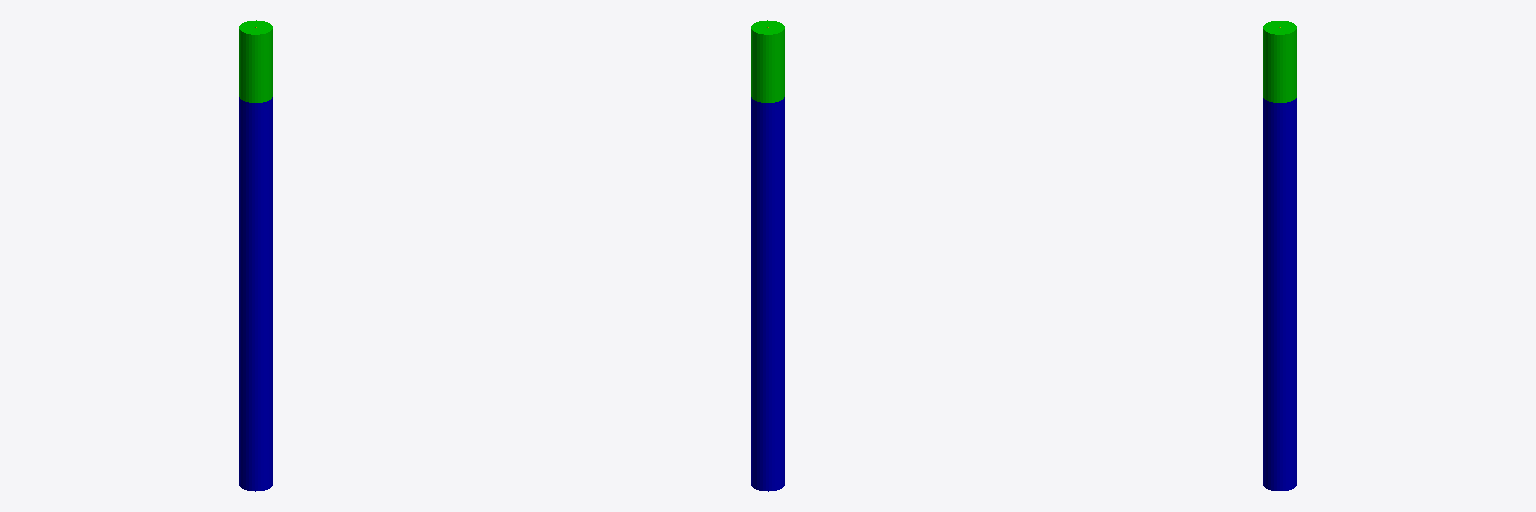
robot.urdf — simple_arm_3link:
<?xml version="1.0" ?>
<!-- =================================================================================== -->
<!-- |    This document was autogenerated by xacro from [local-path]/w_work/catkin_ws/src/RC2026/arm_model/urdf/arm_simple.xacro | -->
<!-- |    EDITING THIS FILE BY HAND IS NOT RECOMMENDED                                 | -->
<!-- =================================================================================== -->
<robot name="simple_arm_3link">
    <link name="world" />
    <material name="blue">
        <color rgba="0 0 0.8 1" />
    </material>
    <material name="gray">
        <color rgba="0.7 0.7 0.7 1" />
    </material>
    <material name="red">
        <color rgba="0.8 0 0 1" />
    </material>
    <!-- 添加绿色材料用于第三连杆 -->
    <material name="green">
        <color rgba="0 0.8 0 1" />
    </material>
    <!-- 添加黄色材料用于末端小球 -->
    <material name="yellow">
        <color rgba="0.8 0.8 0 1" />
    </material>
    <link name="base_link">
        <inertial>
            <mass value="1.0" />
            <origin xyz="0 0 0" rpy="0 0 0" />
            <inertia ixx="0.0" ixy="0" ixz="0" iyy="0.0" iyz="0" izz="0.0" />
        </inertial>
        <visual>
            <geometry>
                <cylinder length="0.0" radius="0.0" />
            </geometry>
            <material name="gray" />
        </visual>
        <collision>
            <geometry>
                <cylinder length="0.0" radius="0.0" />
            </geometry>
        </collision>
    </link>
    <joint name="world_to_base_fixed" type="fixed">
        <parent link="world" />
        <child link="base_link" />
        <origin rpy="0 0 0" xyz="0 0 0.0" />
    </joint>
    <link name="turret_link">
        <inertial>
            <mass value="0.5" />
            <origin xyz="0 0 0" rpy="0 0 0" />
            <inertia ixx="0.0" ixy="0" ixz="0" iyy="0.0" iyz="0" izz="0.0" />
        </inertial>
        <visual name="turret_blue_part">
            <origin xyz="0 0 -0.0" />
            <geometry>
                <cylinder length="0.0" radius="0.0" />
            </geometry>
            <material name="blue" />
        </visual>
        <visual name="turret_red_part">
            <origin xyz="0 0 0.0" />
            <geometry>
                <cylinder length="0.0" radius="0.0" />
            </geometry>
            <material name="red" />
        </visual>
        <collision>
            <geometry>
                <cylinder length="0.0" radius="0.0" />
            </geometry>
        </collision>
    </link>
    <joint name="base_to_turret" type="revolute">
        <parent link="base_link" />
        <child link="turret_link" />
        <origin rpy="0 0 0" xyz="0 0 0.0" />
        <axis xyz="0 0 1" />
        <limit effort="20" lower="-3.14" upper="3.14" velocity="1.0" />
        <dynamics damping="1.0" friction="0.1" />
    </joint>
    <gazebo joint="base_to_turret">
        <hardwareInterface>hardware_interface/PositionJointInterface</hardwareInterface>
        <plugin name="gazebo_ros_control" filename="libgazebo_ros_control.so">
            <robotNamespace>/</robotNamespace>
        </plugin>
    </gazebo>
    <transmission name="base_to_turret_trans">
        <type>transmission_interface/SimpleTransmission</type>
        <joint name="base_to_turret">
            <hardwareInterface>hardware_interface/PositionJointInterface</hardwareInterface>
        </joint>
        <actuator name="base_to_turret_motor">
            <hardwareInterface>hardware_interface/PositionJointInterface</hardwareInterface>
            <mechanicalReduction>1</mechanicalReduction>
        </actuator>
    </transmission>
    <!-- 第一连杆 -->
    <link name="first_arm_link">
        <inertial>
            <mass value="0.5" />
            <origin xyz="0 0 0.1721" rpy="0 0 0" />
            <!-- 重心在连杆中心 -->
            <inertia ixx="0.005048901666666666" ixy="0" ixz="0" iyy="0.005048901666666666" iyz="0" izz="0.000225" />
        </inertial>
        <visual>
            <origin xyz="0 0 0.1721" />
            <!-- 圆柱体中心在连杆中心 -->
            <geometry>
                <cylinder length="0.3442" radius="0.03" />
            </geometry>
            <material name="blue" />
        </visual>
        <collision>
            <origin xyz="0 0 0.1721" />
            <!-- 碰撞体中心也在连杆中心 -->
            <geometry>
                <cylinder length="0.3442" radius="0.03" />
            </geometry>
        </collision>
    </link>
    <!-- 第一连杆关节：位于云台上表面，第一连杆下表面与云台上表面连接 -->
    <joint name="turret_to_first_arm" type="revolute">
        <parent link="turret_link" />
        <child link="first_arm_link" />
        <!-- 关节位于云台上表面，第一连杆下表面与云台上表面连接 -->
        <origin rpy="0 0 0" xyz="0 0 0.0" />
        <axis xyz="0 1 0" />
        <limit effort="20" lower="-1.57" upper="1.57" velocity="1.0" />
        <dynamics damping="1.0" friction="0.1" />
    </joint>
    <gazebo joint="turret_to_first_arm">
        <hardwareInterface>hardware_interface/PositionJointInterface</hardwareInterface>
    </gazebo>
    <transmission name="turret_to_first_arm_trans">
        <type>transmission_interface/SimpleTransmission</type>
        <joint name="turret_to_first_arm">
            <hardwareInterface>hardware_interface/PositionJointInterface</hardwareInterface>
        </joint>
        <actuator name="turret_to_first_arm_motor">
            <hardwareInterface>hardware_interface/PositionJointInterface</hardwareInterface>
            <mechanicalReduction>1</mechanicalReduction>
        </actuator>
    </transmission>
    <!-- 第二连杆 -->
    <link name="second_arm_link">
        <inertial>
            <mass value="0.5" />
            <origin xyz="0 0 0.20738" rpy="0 0 0" />
            <!-- 重心在连杆中心 -->
            <inertia ixx="0.007280244066666668" ixy="0" ixz="0" iyy="0.007280244066666668" iyz="0" izz="0.000225" />
        </inertial>
        <visual>
            <origin xyz="0 0 0.20738" />
            <!-- 圆柱体中心在连杆中心 -->
            <geometry>
                <cylinder length="0.41476" radius="0.03" />
            </geometry>
            <material name="blue" />
        </visual>
        <collision>
            <origin xyz="0 0 0.20738" />
            <!-- 碰撞体中心也在连杆中心 -->
            <geometry>
                <cylinder length="0.41476" radius="0.03" />
            </geometry>
        </collision>
    </link>
    <!-- 第二连杆关节：位于第一连杆上表面，第二连杆下表面与第一连杆上表面连接 -->
    <joint name="first_to_second_arm" type="revolute">
        <parent link="first_arm_link" />
        <child link="second_arm_link" />
        <!-- 关节位于第一连杆上表面 -->
        <origin rpy="0 0 0" xyz="0 0 0.3442" />
        <axis xyz="0 1 0" />
        <limit effort="20" lower="-3.14" upper="3.14" velocity="1.0" />
        <dynamics damping="1.0" friction="0.1" />
    </joint>
    <gazebo joint="first_to_second_arm">
        <hardwareInterface>hardware_interface/PositionJointInterface</hardwareInterface>
    </gazebo>
    <transmission name="first_to_second_arm_trans">
        <type>transmission_interface/SimpleTransmission</type>
        <joint name="first_to_second_arm">
            <hardwareInterface>hardware_interface/PositionJointInterface</hardwareInterface>
        </joint>
        <actuator name="first_to_second_arm_motor">
            <hardwareInterface>hardware_interface/PositionJointInterface</hardwareInterface>
            <mechanicalReduction>1</mechanicalReduction>
        </actuator>
    </transmission>
    <!-- 第三连杆 -->
    <link name="third_arm_link">
        <inertial>
            <mass value="0.3" />
            <origin xyz="0 0 0.06675" rpy="0 0 0" />
            <!-- 重心在连杆中心 -->
            <inertia ixx="0.00051305625" ixy="0" ixz="0" iyy="0.00051305625" iyz="0" izz="0.000135" />
        </inertial>
        <visual>
            <origin xyz="0 0 0.06675" />
            <!-- 圆柱体中心在连杆中心 -->
            <geometry>
                <cylinder length="0.1335" radius="0.03" />
            </geometry>
            <material name="green" />
        </visual>
        <collision>
            <origin xyz="0 0 0.06675" />
            <!-- 碰撞体中心也在连杆中心 -->
            <geometry>
                <cylinder length="0.1335" radius="0.03" />
            </geometry>
        </collision>
    </link>
    <!-- 第三连杆关节：位于第二连杆上表面，第三连杆下表面与第二连杆上表面连接 -->
    <joint name="second_to_third_arm" type="revolute">
        <parent link="second_arm_link" />
        <child link="third_arm_link" />
        <!-- 关节位于第二连杆上表面 -->
        <origin rpy="0 0 0" xyz="0 0 0.41476" />
        <axis xyz="0 1 0" />
        <limit effort="20" lower="-3.14" upper="3.14" velocity="1.0" />
        <dynamics damping="1.0" friction="0.1" />
    </joint>
    <gazebo joint="second_to_third_arm">
        <hardwareInterface>hardware_interface/PositionJointInterface</hardwareInterface>
    </gazebo>
    <transmission name="second_to_third_arm_trans">
        <type>transmission_interface/SimpleTransmission</type>
        <joint name="second_to_third_arm">
            <hardwareInterface>hardware_interface/PositionJointInterface</hardwareInterface>
        </joint>
        <actuator name="second_to_third_arm_motor">
            <hardwareInterface>hardware_interface/PositionJointInterface</hardwareInterface>
            <mechanicalReduction>1</mechanicalReduction>
        </actuator>
    </transmission>
    <!-- 末端小球链接 -->
    <link name="end_effector_link">
        <inertial>
            <mass value="0.001" />
            <origin xyz="0 0 0" rpy="0 0 0" />
            <!-- 球体的惯性矩阵 -->
            <inertia ixx="4e-10" ixy="0" ixz="0" iyy="4e-10" iyz="0" izz="4e-10" />
        </inertial>
        <visual>
            <geometry>
                <sphere radius="0.001" />
            </geometry>
            <material name="yellow" />
        </visual>
        <collision>
            <geometry>
                <sphere radius="0.001" />
            </geometry>
        </collision>
    </link>
    <!-- 末端小球关节：固定关节连接到第三连杆末端 -->
    <joint name="third_arm_to_end_effector" type="fixed">
        <parent link="third_arm_link" />
        <child link="end_effector_link" />
        <!-- 关节位于第三连杆末端 -->
        <origin rpy="0 0 0" xyz="0 0 0.1335" />
    </joint>
    <gazebo>
        <plugin filename="libgazebo_ros_control.so" name="gazebo_ros_control">
            <robotNamespace>/</robotNamespace>
            <robotSimType>gazebo_ros_control/DefaultRobotHWSim</robotSimType>
        </plugin>
    </gazebo>
</robot>

--- Facts derived from the render (not from the file) ---
Views: 3 orthographic renders of the robot side by side, from view 1: azimuth 30°, elevation 25°; view 2: azimuth 150°, elevation 25°; view 3: azimuth 270°, elevation 25°.
Robot: simple_arm_3link — 7 links, 6 joints (4 revolute, 2 fixed); root link world; default pose: all joints at 0.
Links seen in each view (by area): view 1: second_arm_link, first_arm_link, third_arm_link; view 2: second_arm_link, first_arm_link, third_arm_link; view 3: second_arm_link, first_arm_link, third_arm_link.
Boxes of the visible links, <box> form: second_arm_link: <box>239,97,272,314</box>; first_arm_link: <box>239,310,272,491</box>; third_arm_link: <box>239,20,272,102</box>; second_arm_link: <box>751,97,784,314</box>; first_arm_link: <box>751,310,784,491</box>; third_arm_link: <box>751,20,784,102</box>; second_arm_link: <box>1263,98,1296,314</box>; first_arm_link: <box>1263,310,1296,490</box>; third_arm_link: <box>1263,21,1296,102</box>.
Size in the robot's own frame: 0.06 by 0.06 by 0.8935 metres.
Geometry: primitives only (box / cylinder / sphere), no mesh files.